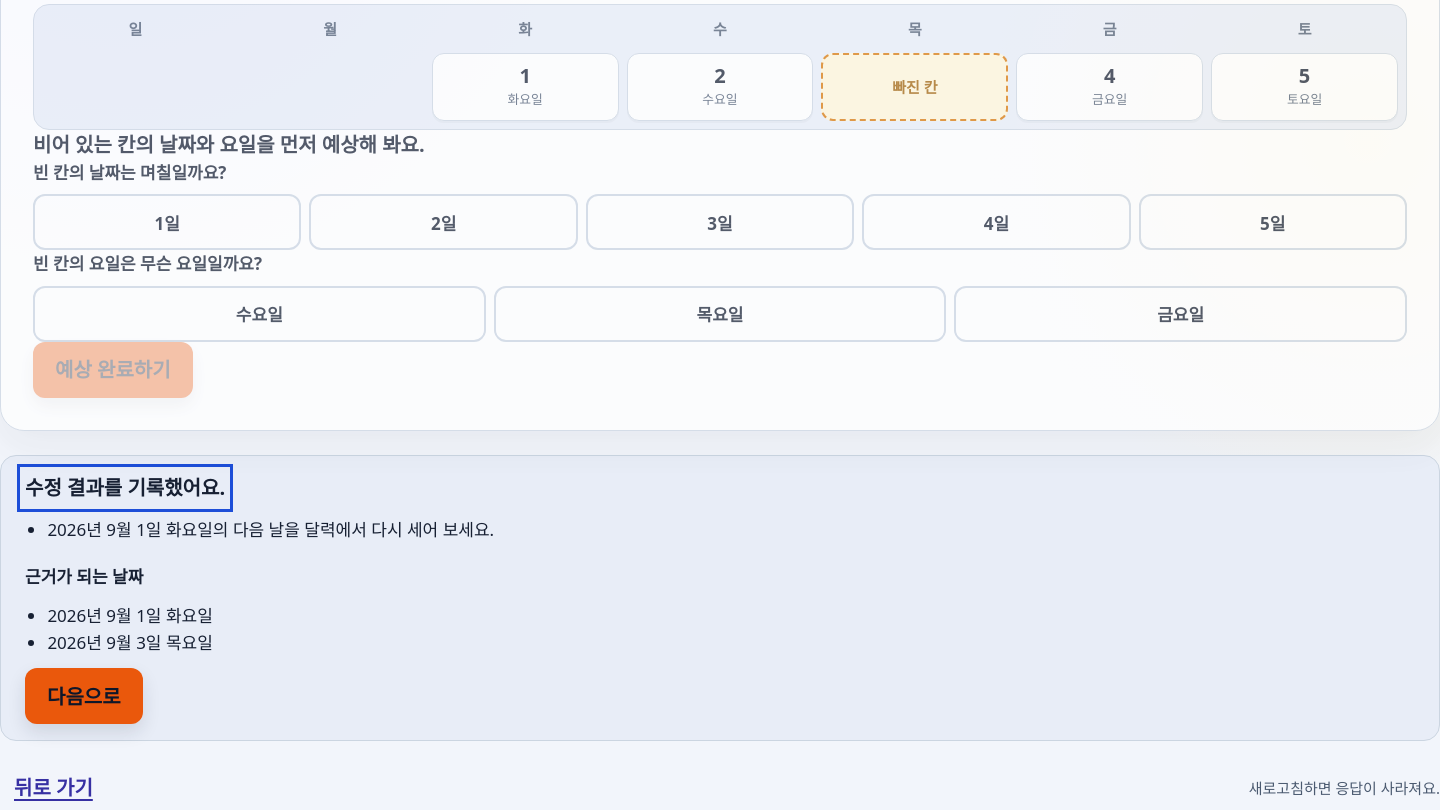
Test: 수정 기회 소진 › 두 번 모두 틀리면 근거 날짜를 공개하고 진행할 수 있다
(page scrolled)
Check: the heading "수정 결과를 기록했어요." is shown, box top-left (25, 472), bottom-right (225, 504)
Check: the list item "2026년 9월 3일 목요일" is shown, box top-left (47, 629), bottom-right (213, 656)
Click the button "다음으로". click: coordinates (84, 696)
box: top-left (25, 668), bottom-right (143, 724)
(page scrolled)
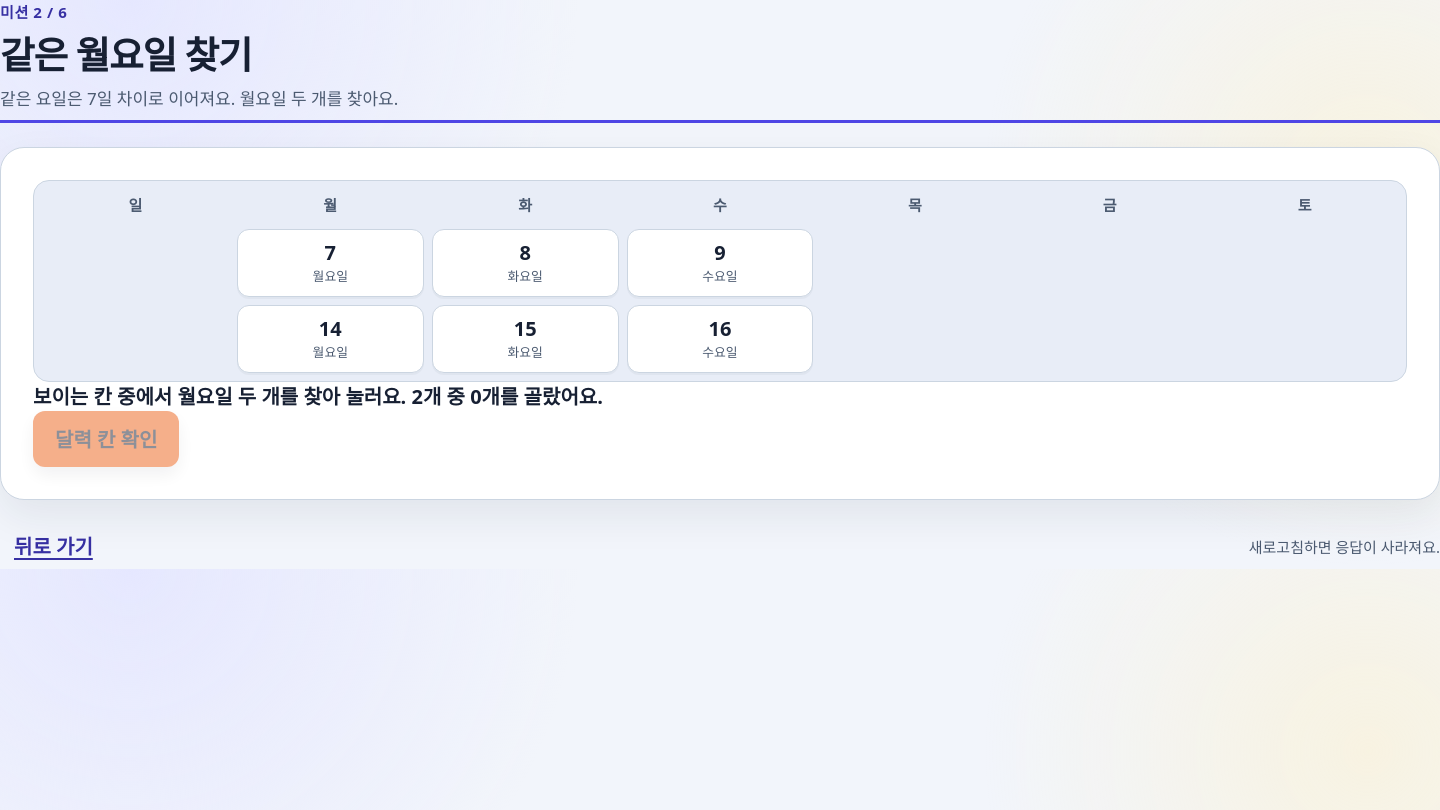
Check: the heading "같은 월요일 찾기" is shown, box top-left (0, 29), bottom-right (251, 80)
